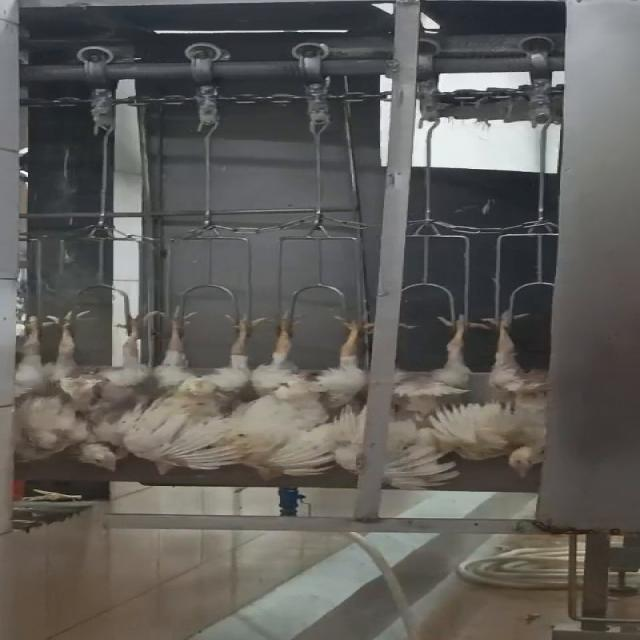chicken: (123, 304, 272, 482), (244, 304, 378, 486), (7, 313, 139, 475), (460, 310, 560, 481), (379, 307, 469, 490)
